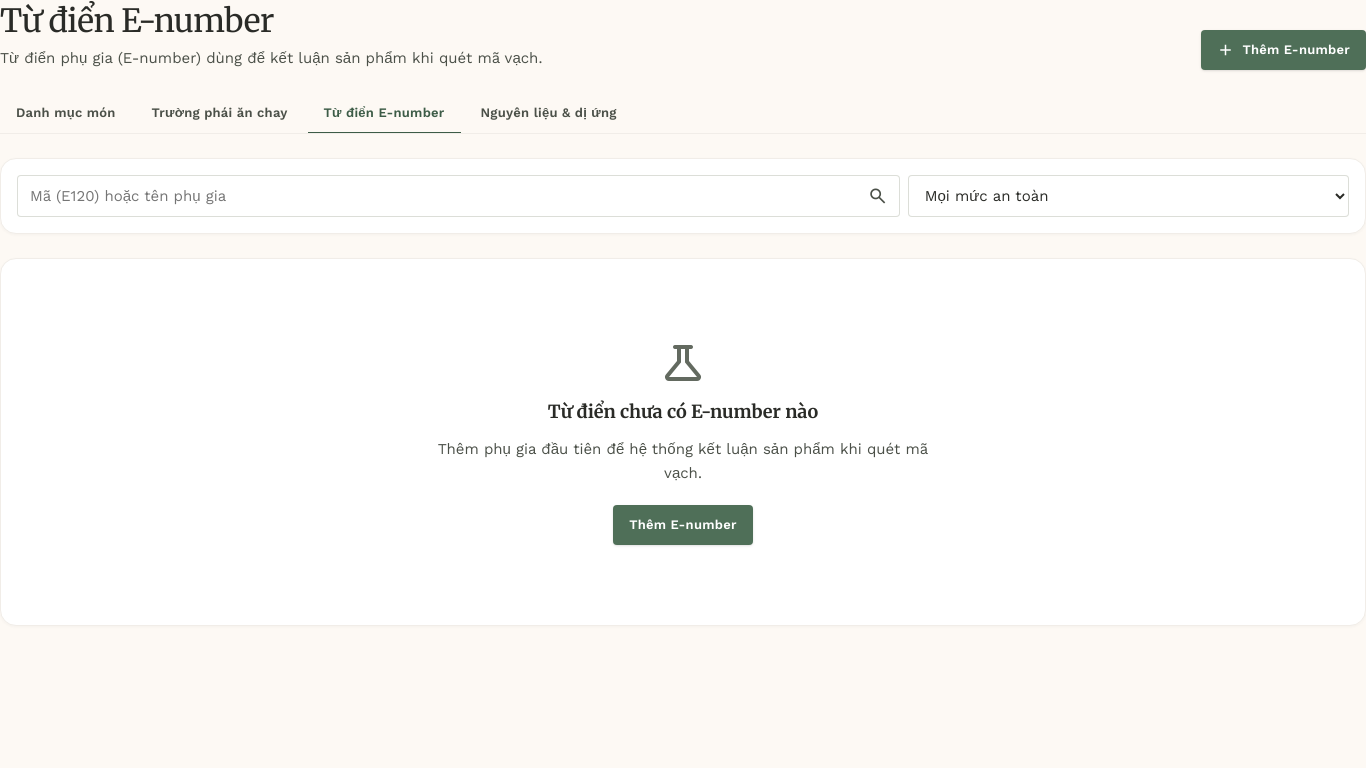
SCR-42 Từ điển E-number › 409 ERR_ENUMBER_DUPLICATE: hộp thoại với message của server, giữ dữ liệu đã nhập
The width and height of the screenshot is (1366, 768).
Expected: the heading "Từ điển chưa có E-number nào" is shown, [548,399,818,425]
Step 1. Click the 1st button "Thêm E-number" → (1283, 50), box [1201,30,1365,70]
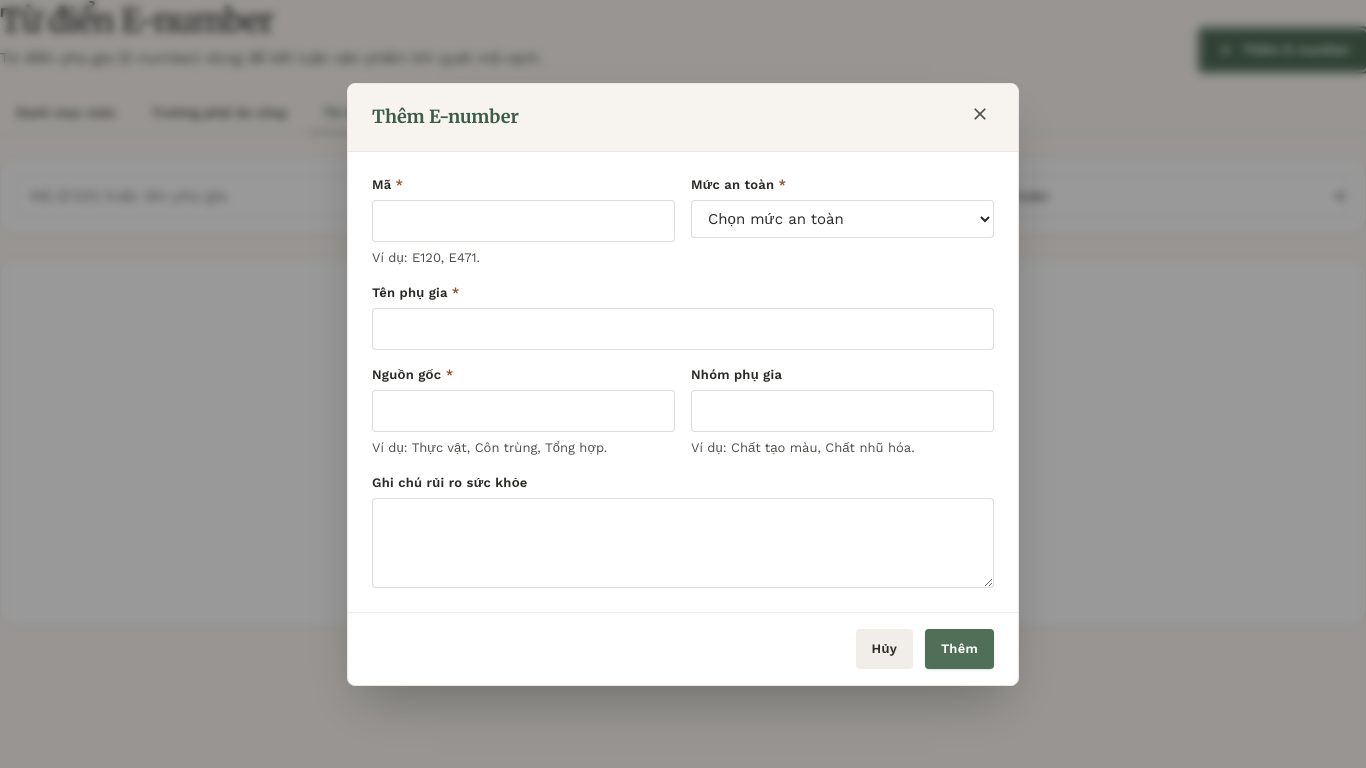
Step 2. Type "E120" into the field labelled "Mã *" → (524, 220), box [372,200,675,242]
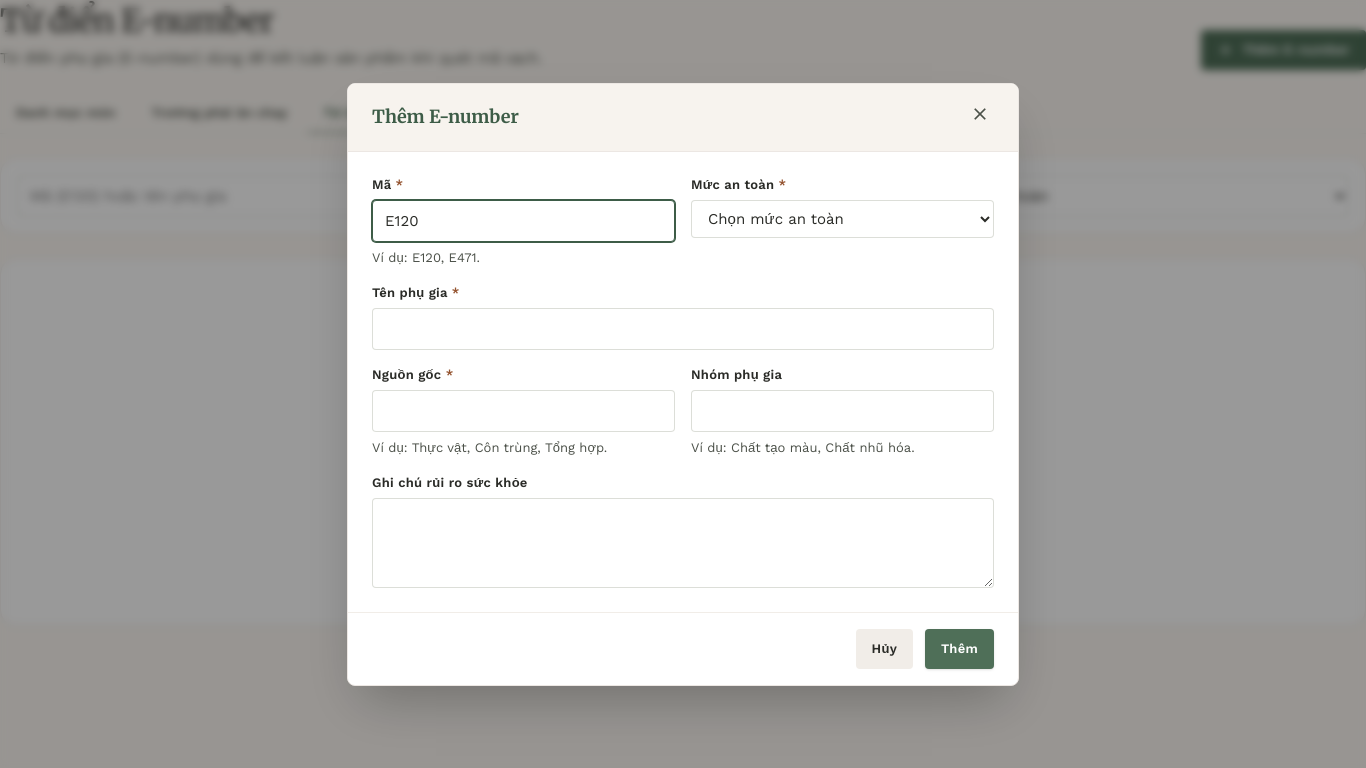
Step 3. Select "Không chay" in the dropdown labelled "Mức an toàn *" → (842, 218), box [691,200,994,238]
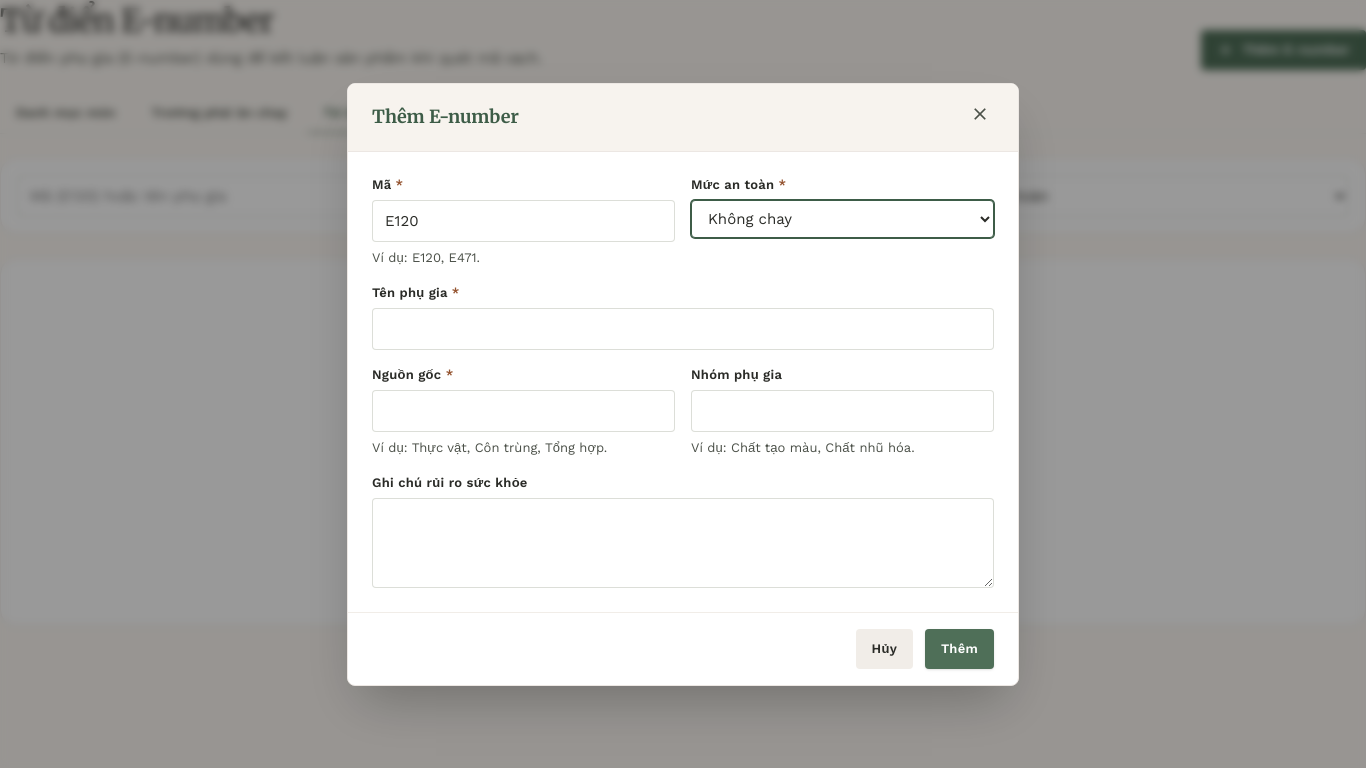
Step 4. Type "Carmine" into the field labelled "Tên phụ gia *" → (683, 328), box [372,308,994,350]
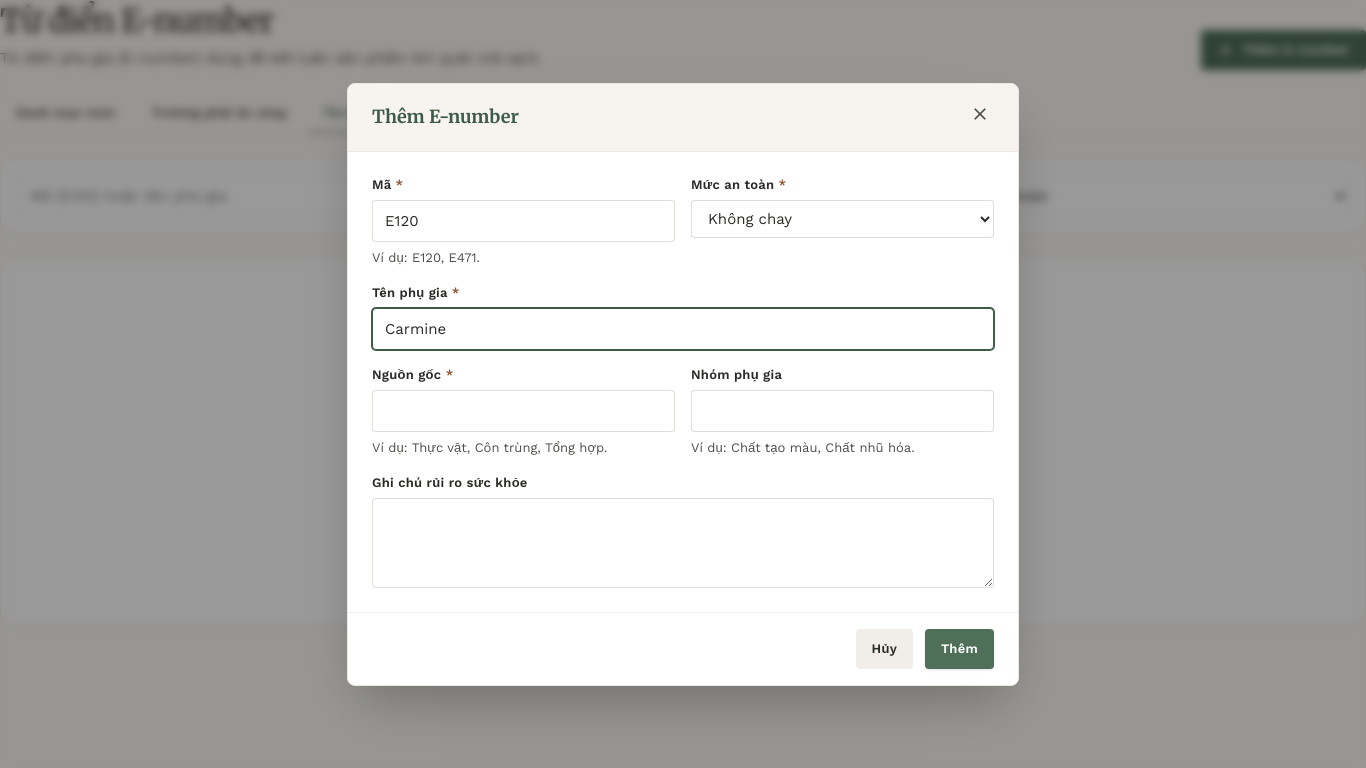
Step 5. Type "Côn trùng" into the field labelled "Nguồn gốc *" → (524, 410), box [372,390,675,432]
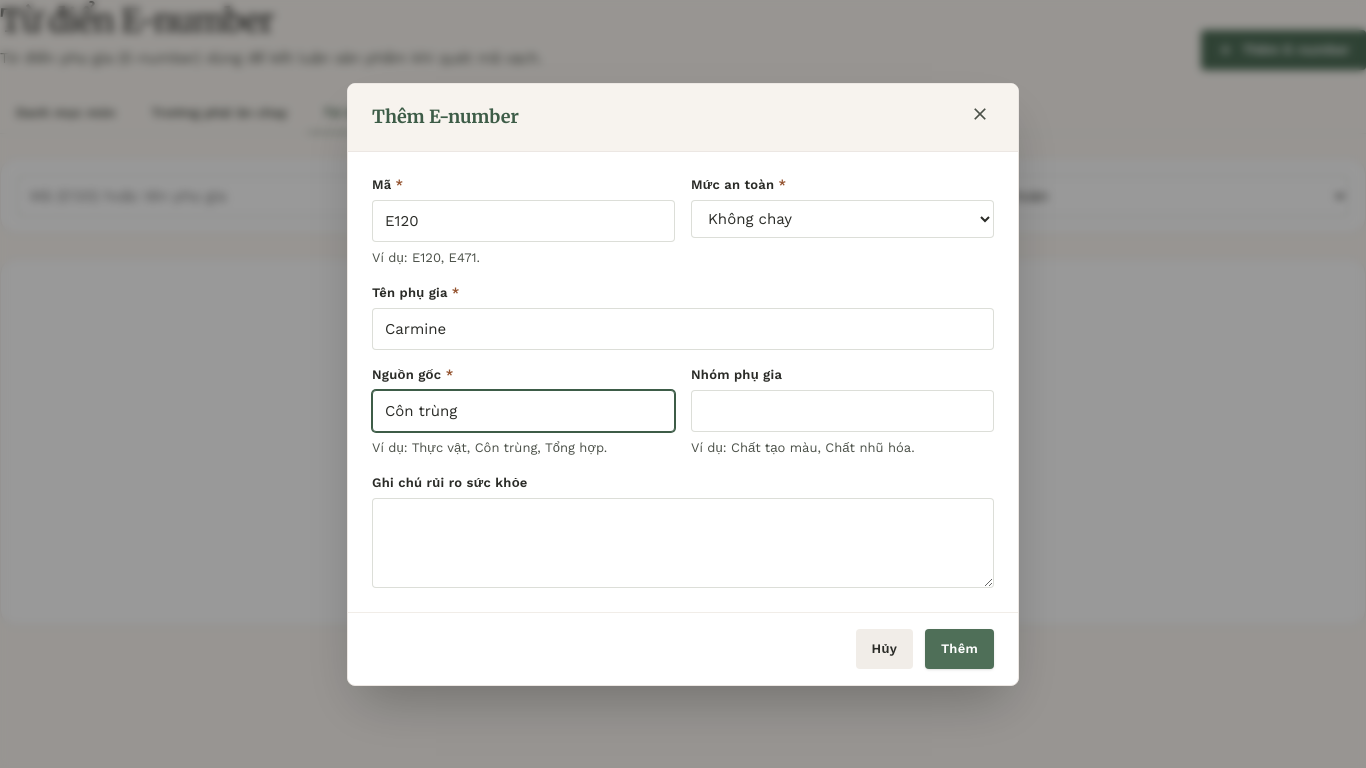
Step 6. Click the button "Thêm" → (960, 648), box [925,628,994,668]
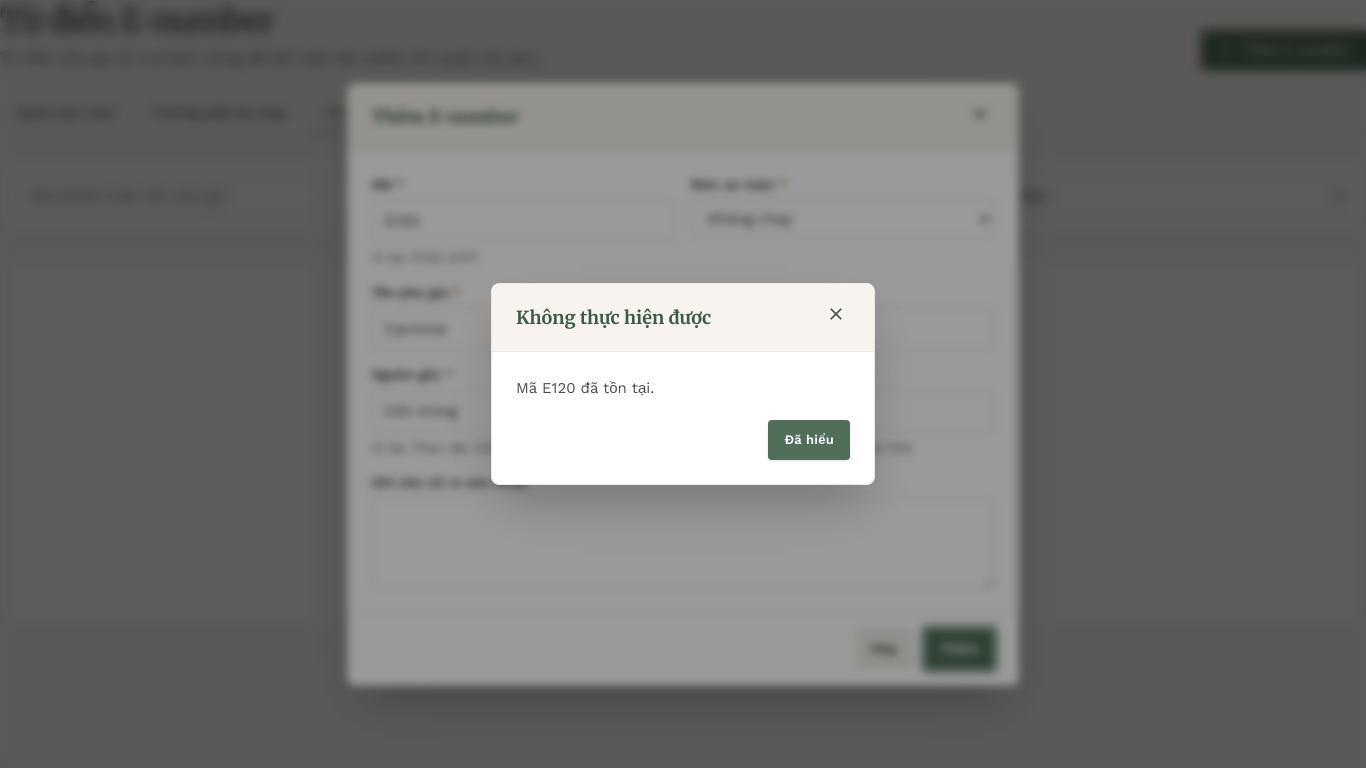
Result: the text "Mã E120 đã tồn tại." is shown at [516,379,654,397]
